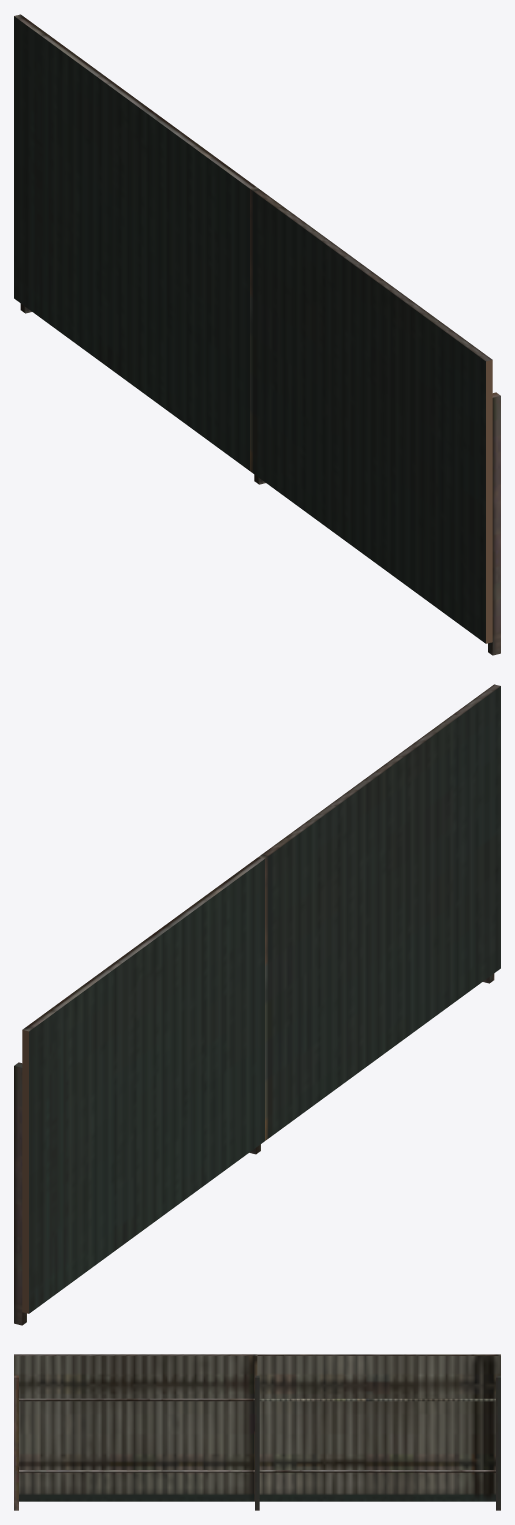
The model's file is Metal_fence_v1_1.fbx.
The picture shows the model from 3 angles, top to bottom: view 1: azimuth 30°, elevation 25°; view 2: azimuth 150°, elevation 25°; view 3: azimuth 270°, elevation 25°; orthographic projection. The views are drawn at different scales.
Visible parts, largest first — view 1: Metal_fence_v1_1; view 2: Metal_fence_v1_1; view 3: Metal_fence_v1_1.
Part boxes in pixels (x1,y1,x2,y2): Metal_fence_v1_1: (14, 14, 500, 655); Metal_fence_v1_1: (14, 684, 500, 1325); Metal_fence_v1_1: (14, 1354, 500, 1510).
Bounding box in the file's own units: 13.63 × 256 × 741.
